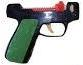gun: (1, 1, 83, 65)
